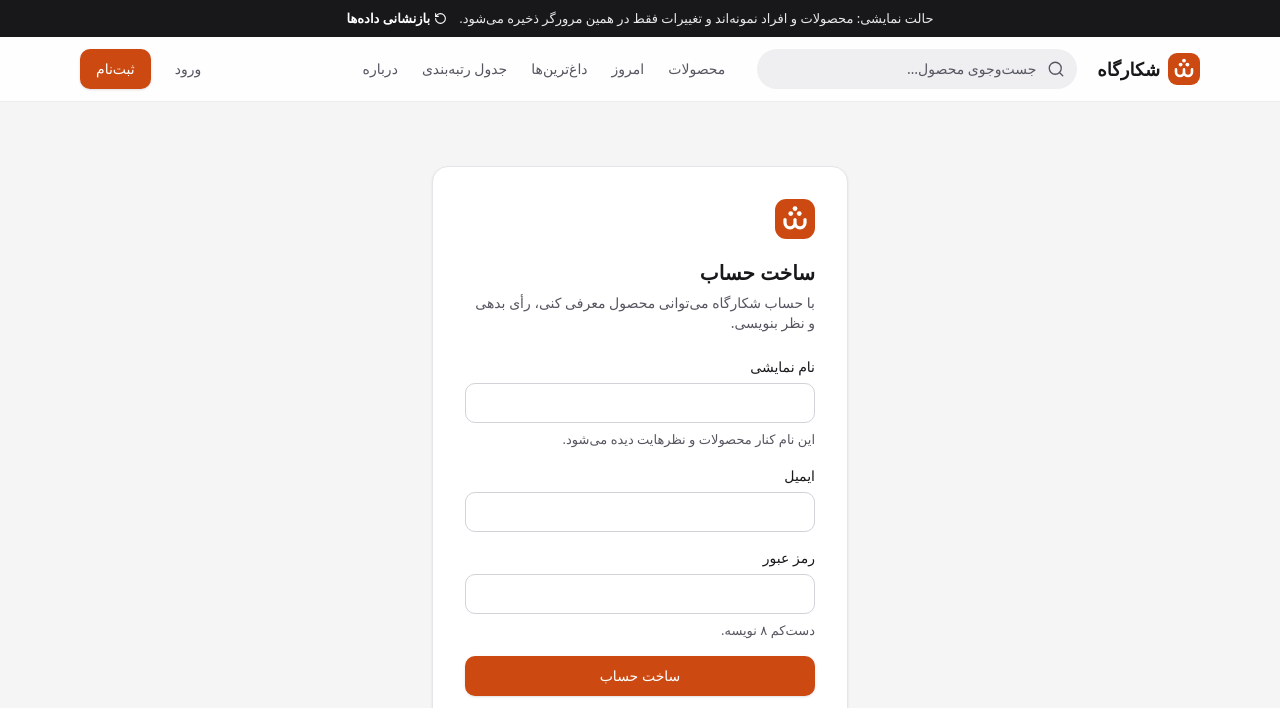
Test case: auth › signs up and lands signed in (demo mode)
Type "کاربر تازه" into the field labelled "نام نمایشی" at (640, 403), box [465,383,815,423]
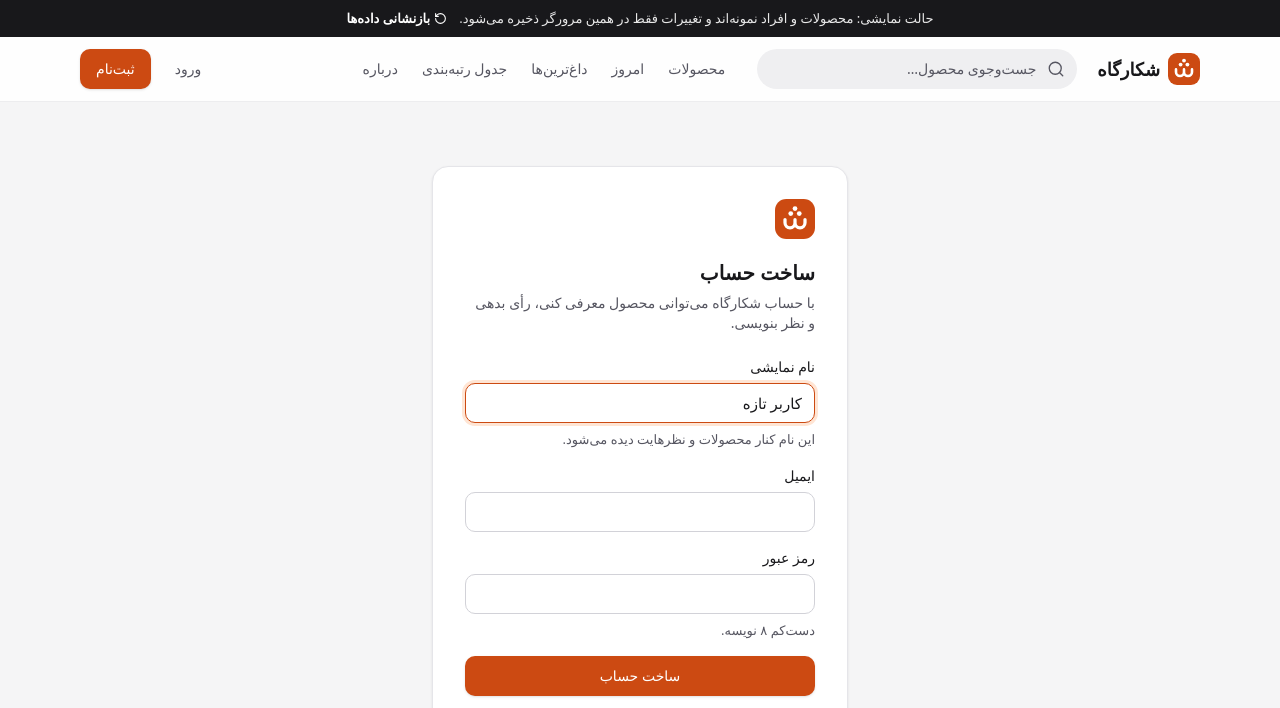
Type "new@example.com" into the field labelled "ایمیل" at (640, 512), box [465,492,815,532]
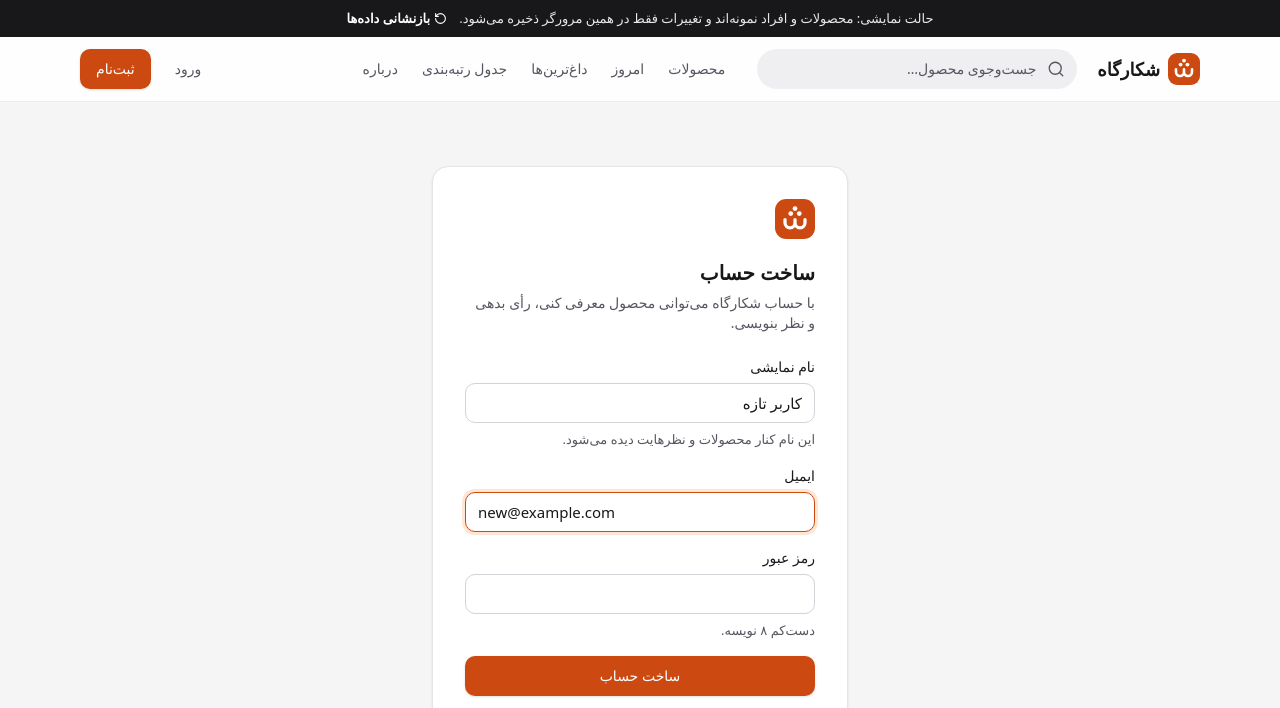
Type "long-enough-password" into the password field labelled "رمز عبور" at (640, 594), box [465,574,815,614]
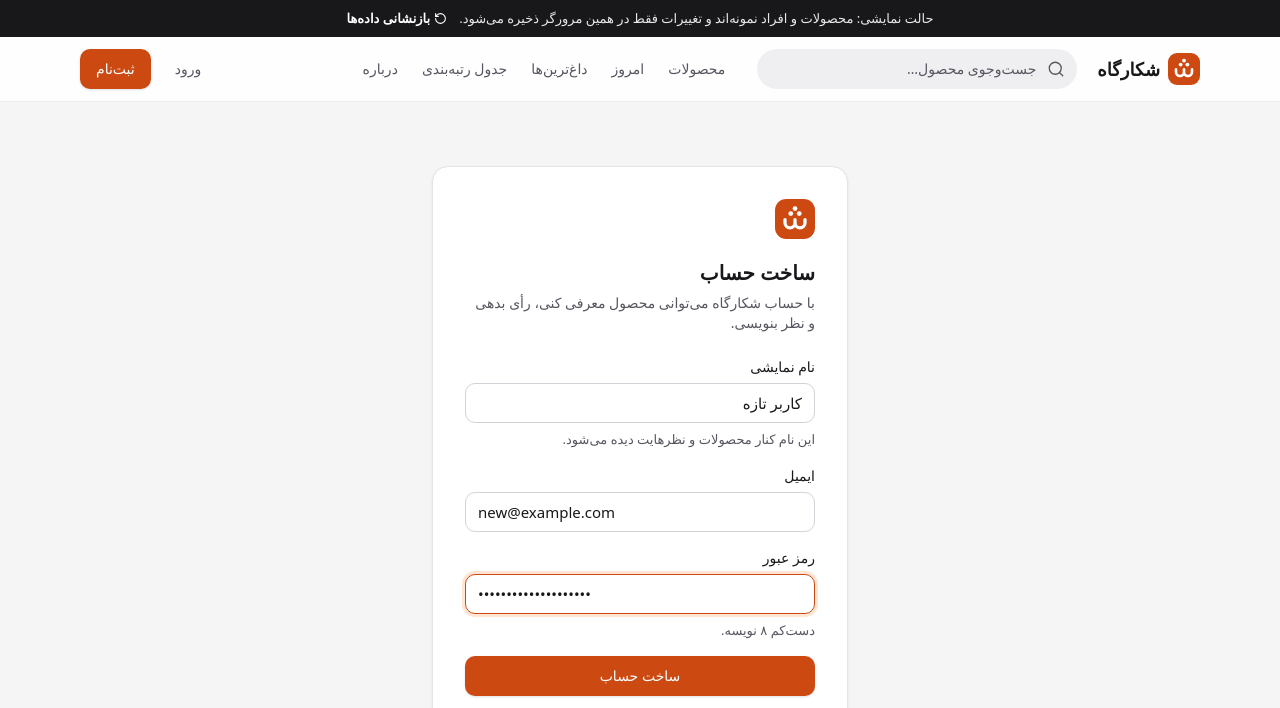
Click the button "ساخت حساب" at (640, 676), box [465,656,815,696]
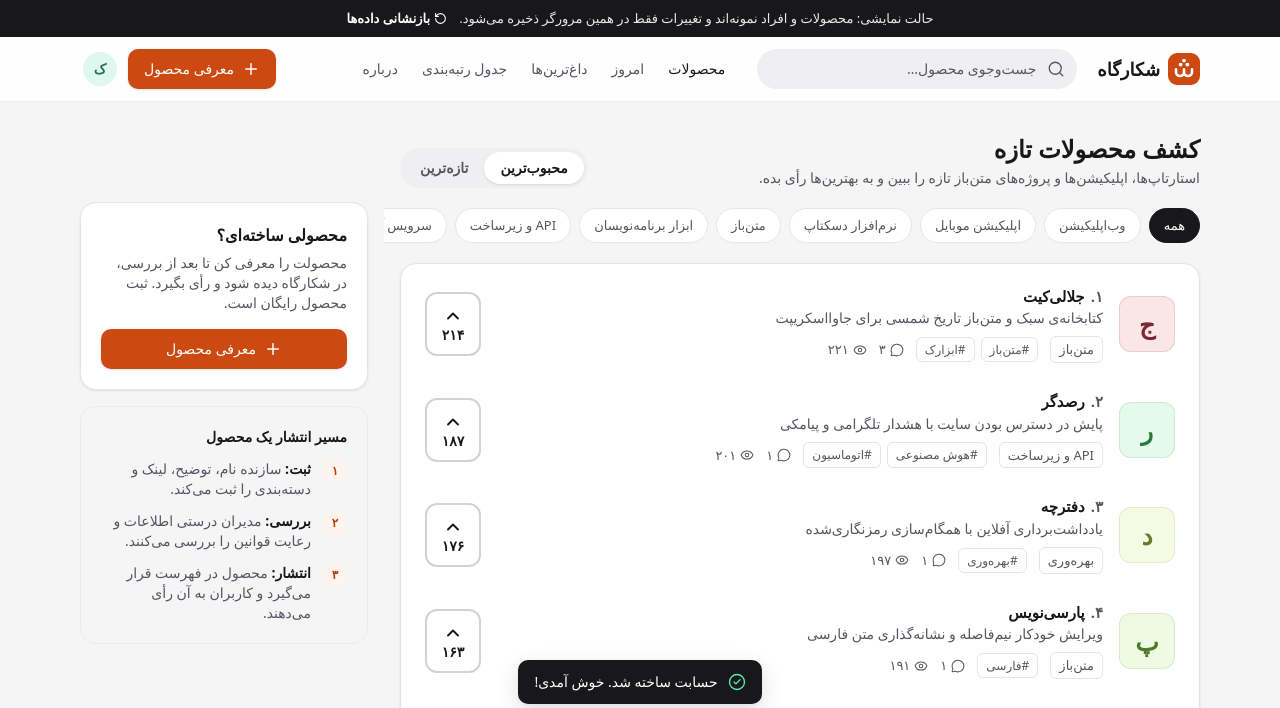
Check: the button named "منوی حساب کاربری" is shown, box [80,49,120,89]
